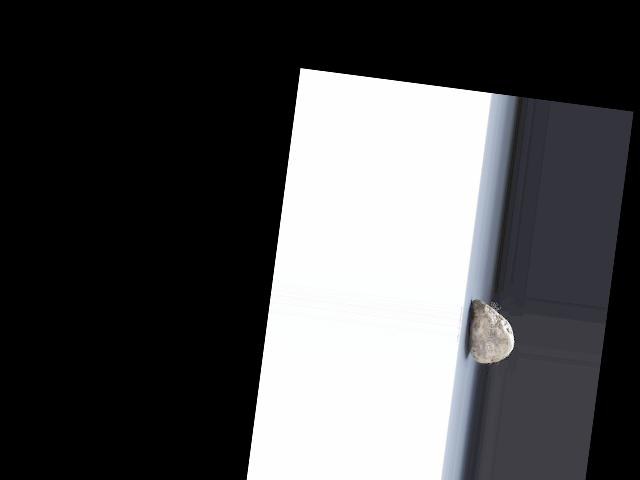beet: (464, 300, 518, 367)
